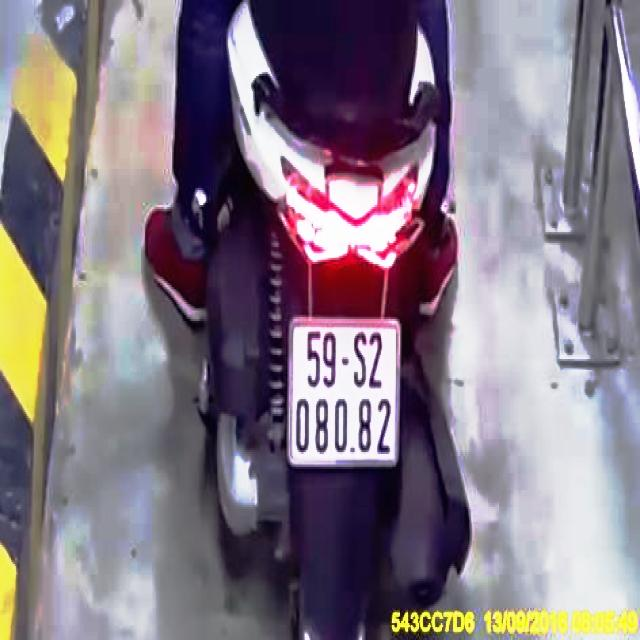license_plate: (292, 321, 398, 463)
